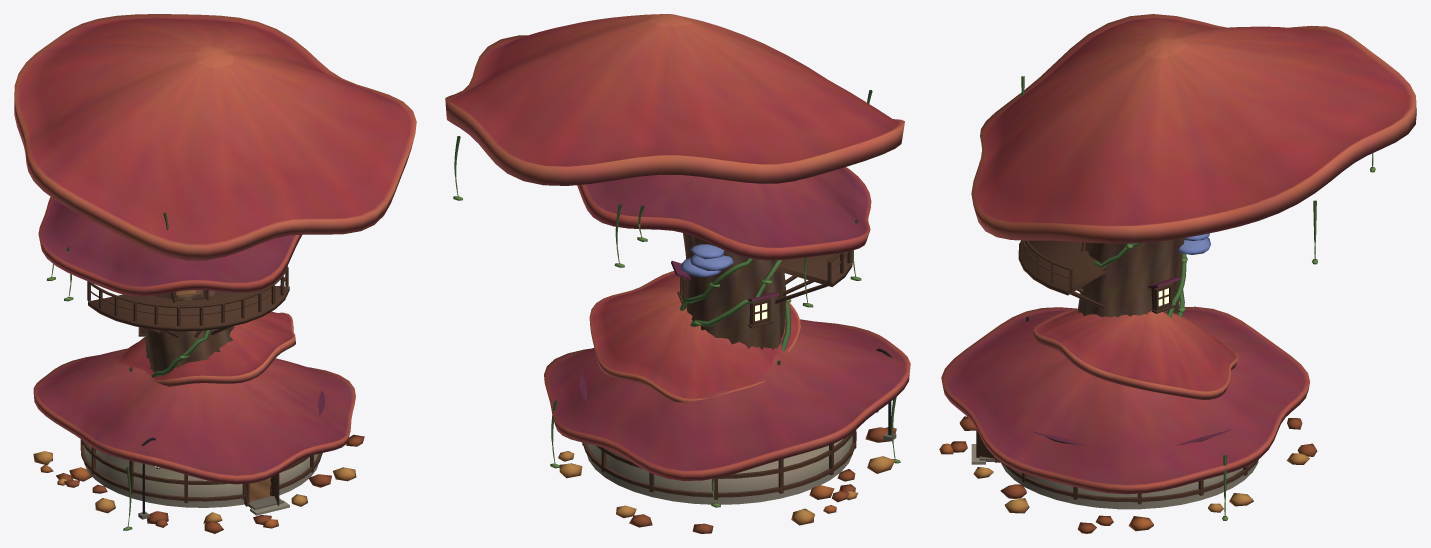
The model's file is ev_kule.glb.
The picture shows the model from 3 angles, left to right: view 1: azimuth 30°, elevation 25°; view 2: azimuth 150°, elevation 25°; view 3: azimuth 270°, elevation 25°; orthographic projection. The views are drawn at different scales.
Visible parts, largest first — view 1: ev_kule_LOD0; view 2: ev_kule_LOD0; view 3: ev_kule_LOD0.
Part boxes in pixels (left/top/right/bottom): ev_kule_LOD0: left=14, top=14, right=416, bottom=533; ev_kule_LOD0: left=445, top=14, right=910, bottom=533; ev_kule_LOD0: left=939, top=14, right=1416, bottom=533.
Size of what is drawn, in the model's own units: 22.58 by 24 by 23.44.
